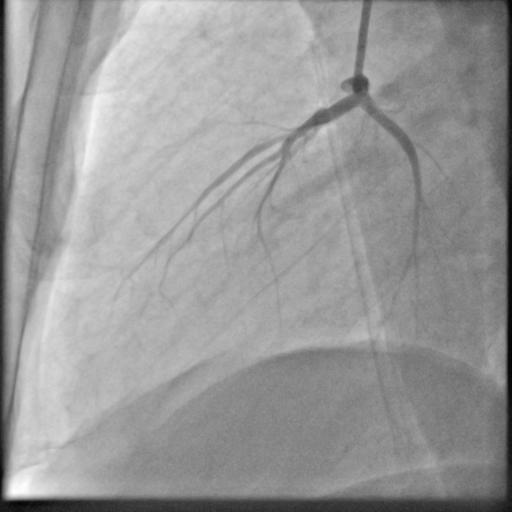Stenosis: (288, 116, 314, 141)
